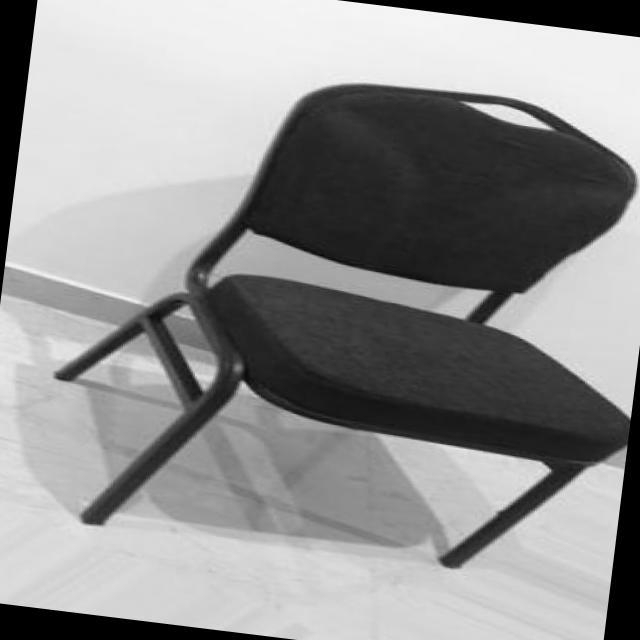chair: (30, 40, 640, 594)
